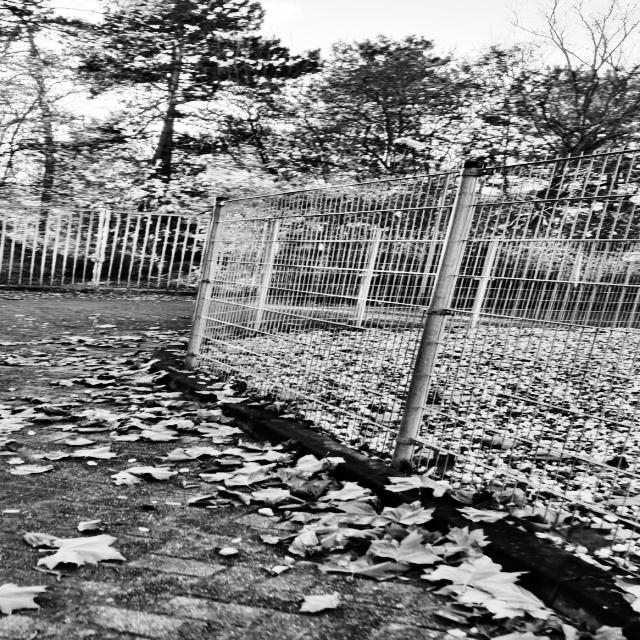fences: (233, 171, 640, 528), (17, 206, 208, 297)
